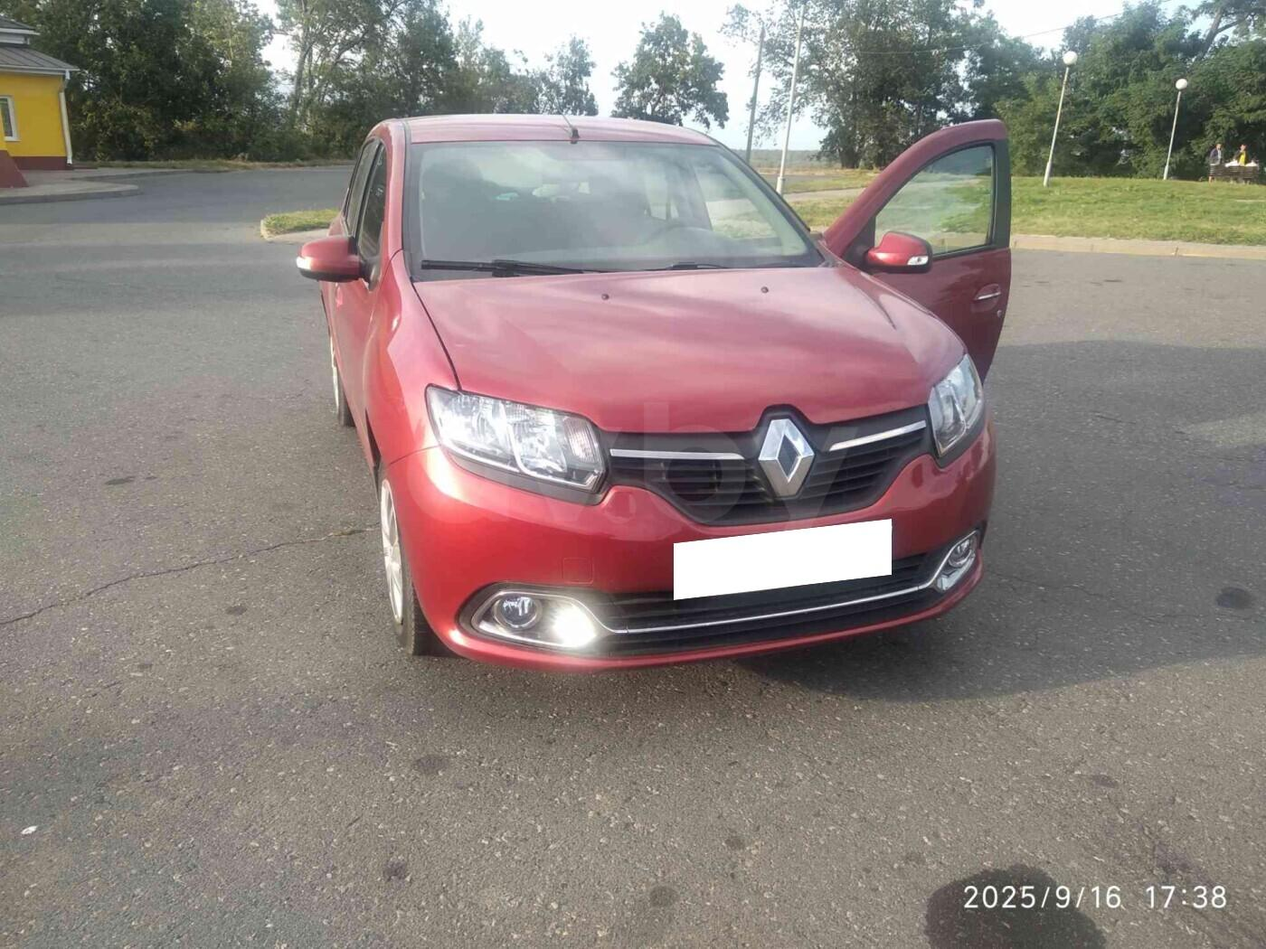Logan_2013-2018: (297, 110, 1032, 660)
